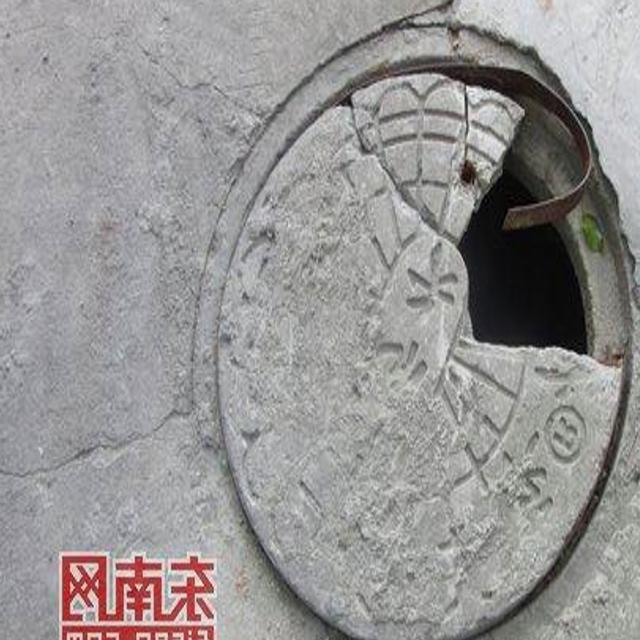broke: (183, 0, 640, 640)
